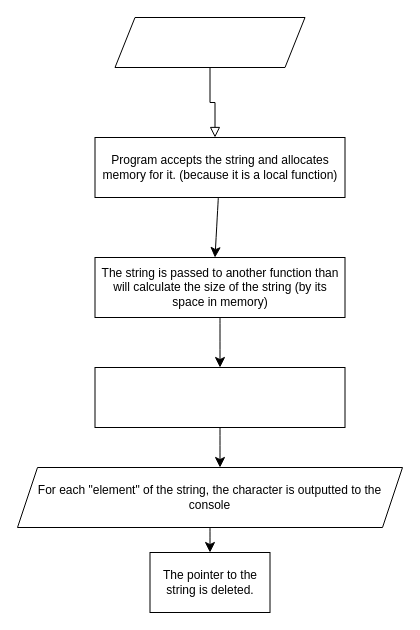
The diagram is 420 pixels wide and 630 high, and some of its shapes have lost their labels. The shapes that lost their labels are listed below. From the top down, each one's centre as x and y in pixels, then its label:
At point (209, 42): "Ask the user to input the string they want reversed.".
At point (219, 397): "The function then iterates over the size of the function.".
